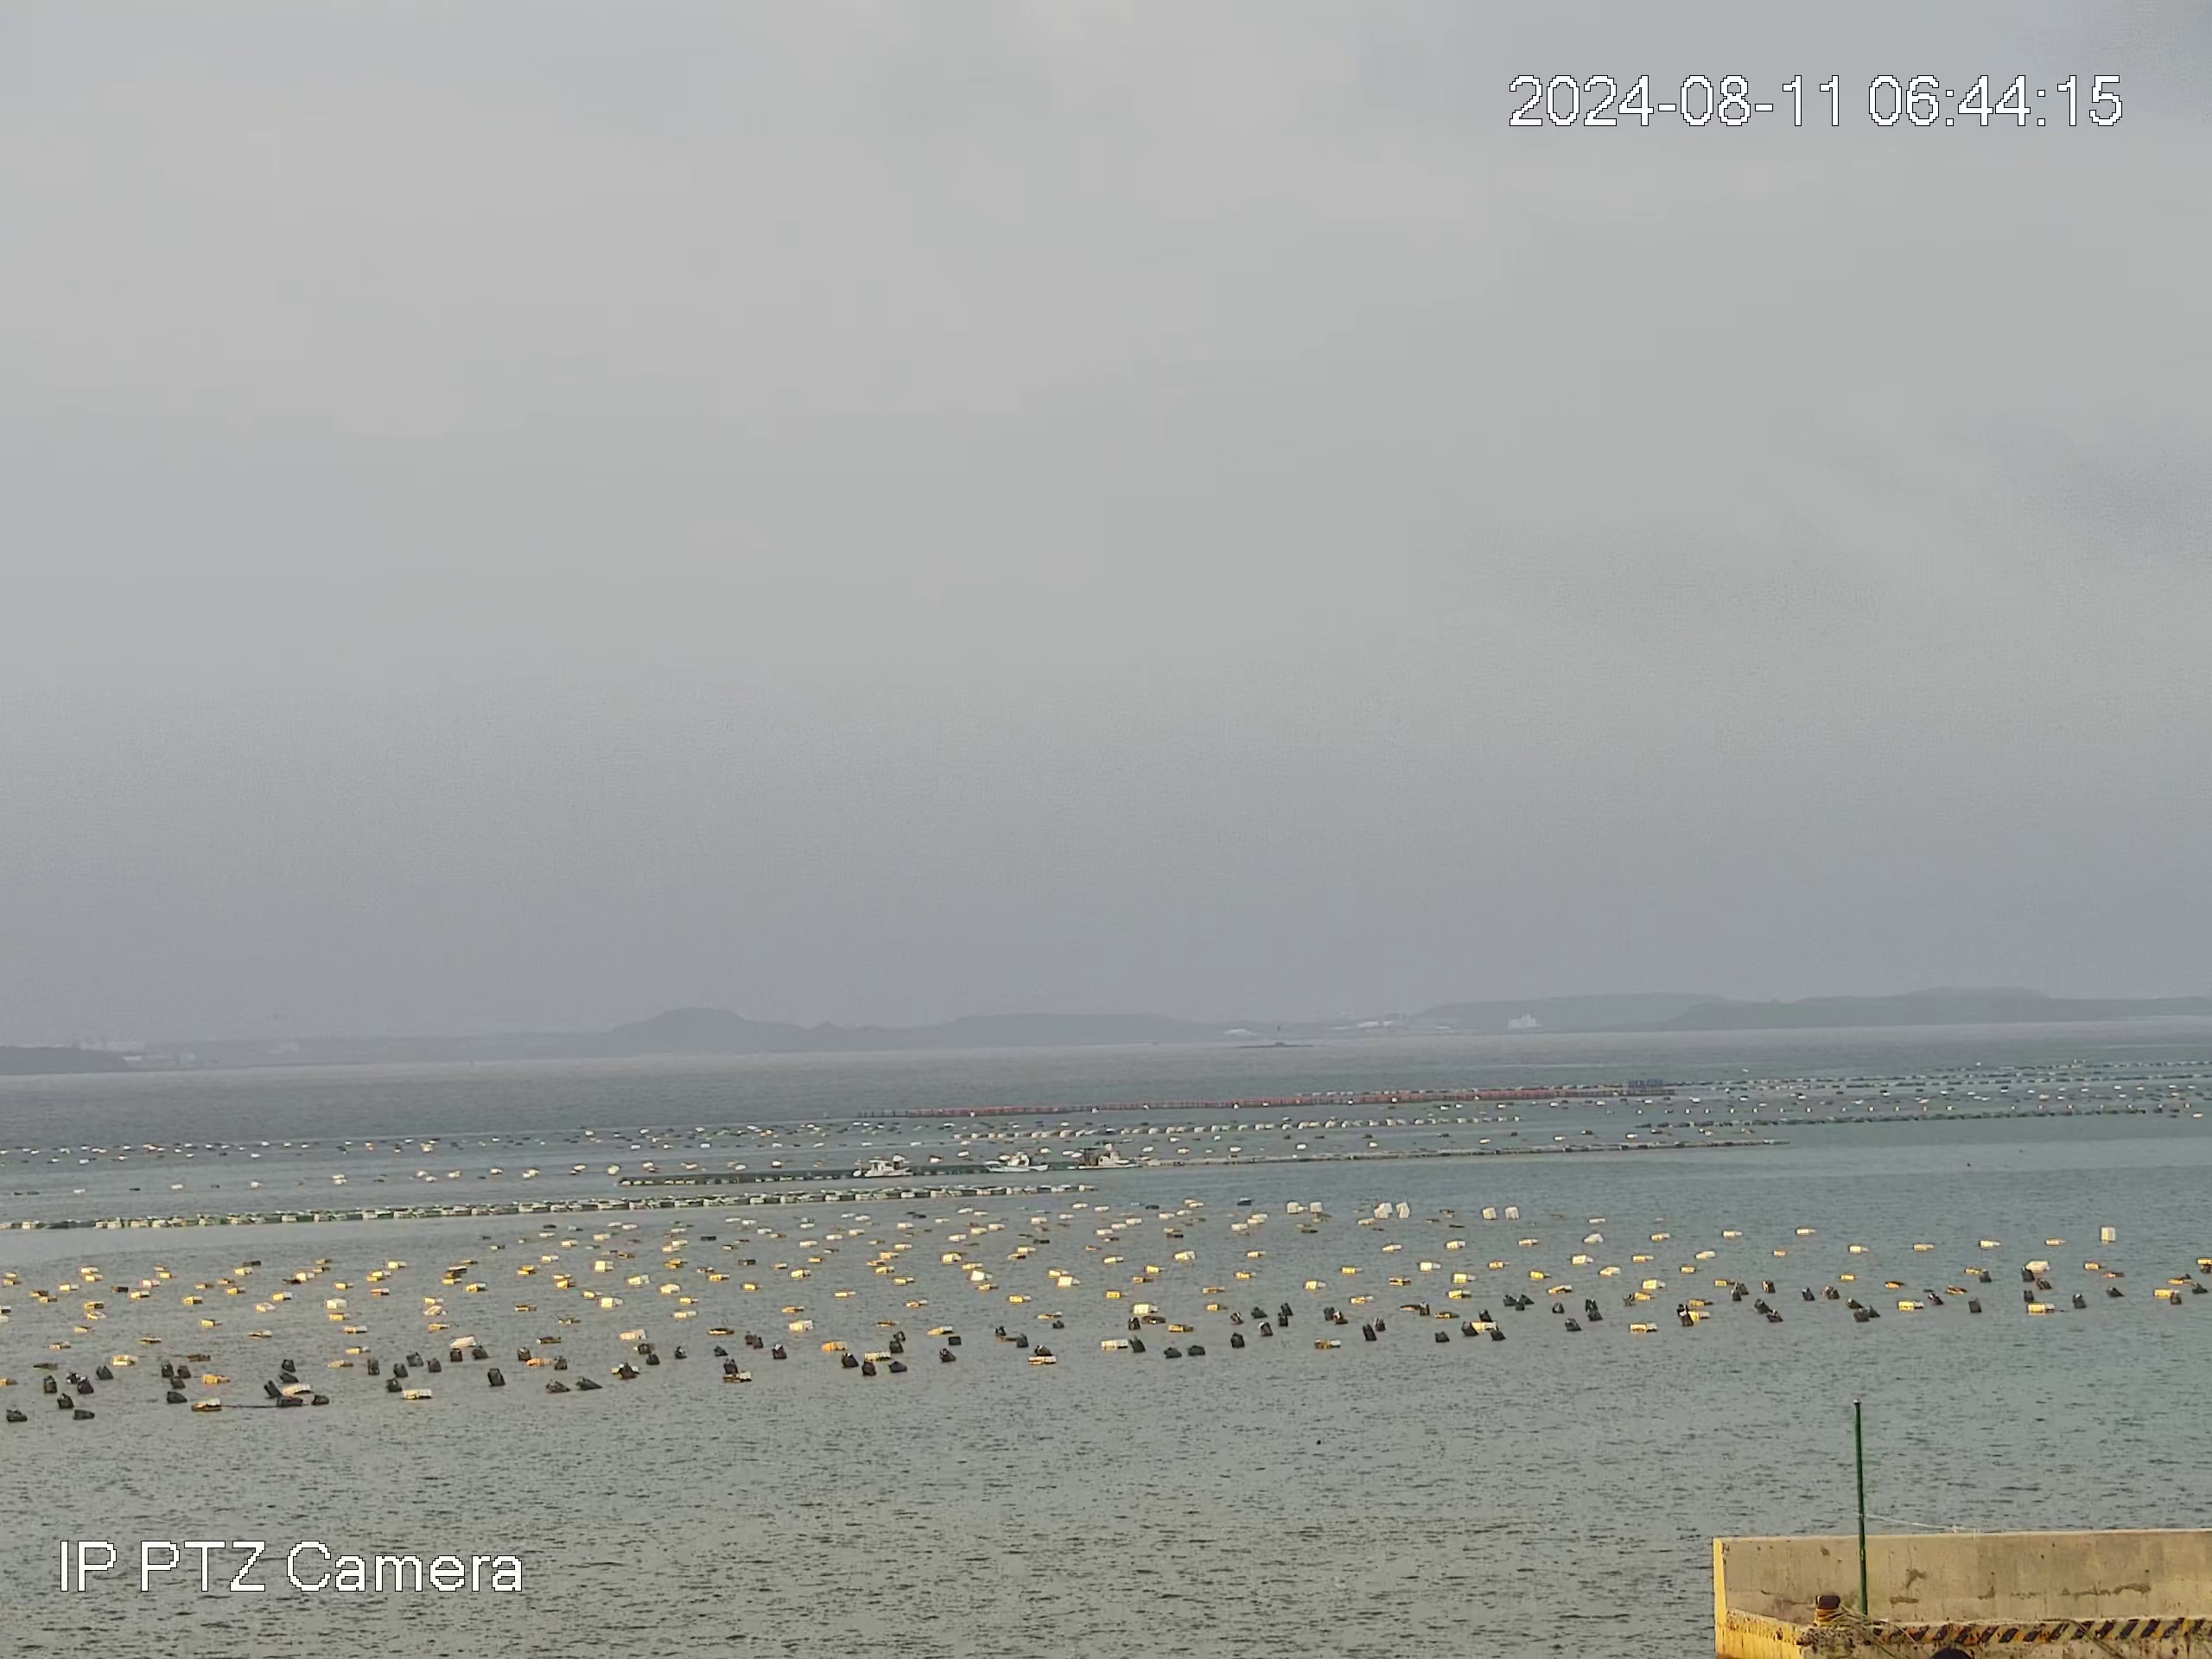boat: (982, 1154, 1050, 1175), (850, 1157, 911, 1178), (1066, 1148, 1118, 1171)
